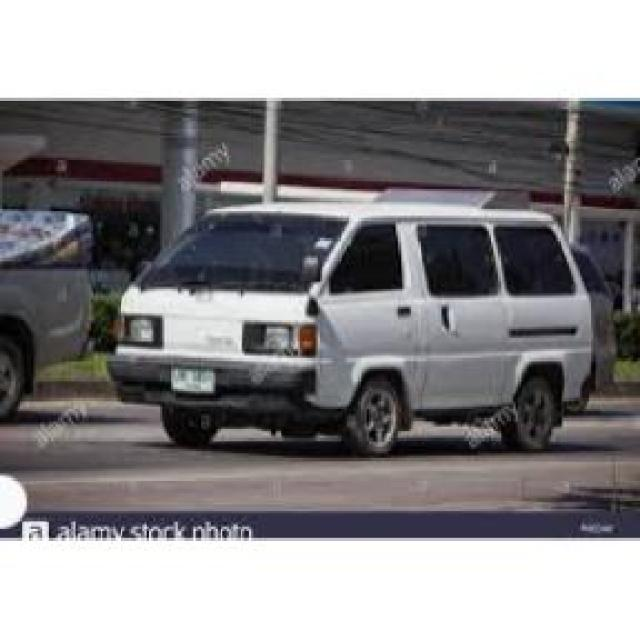Van: (103, 195, 602, 453)
